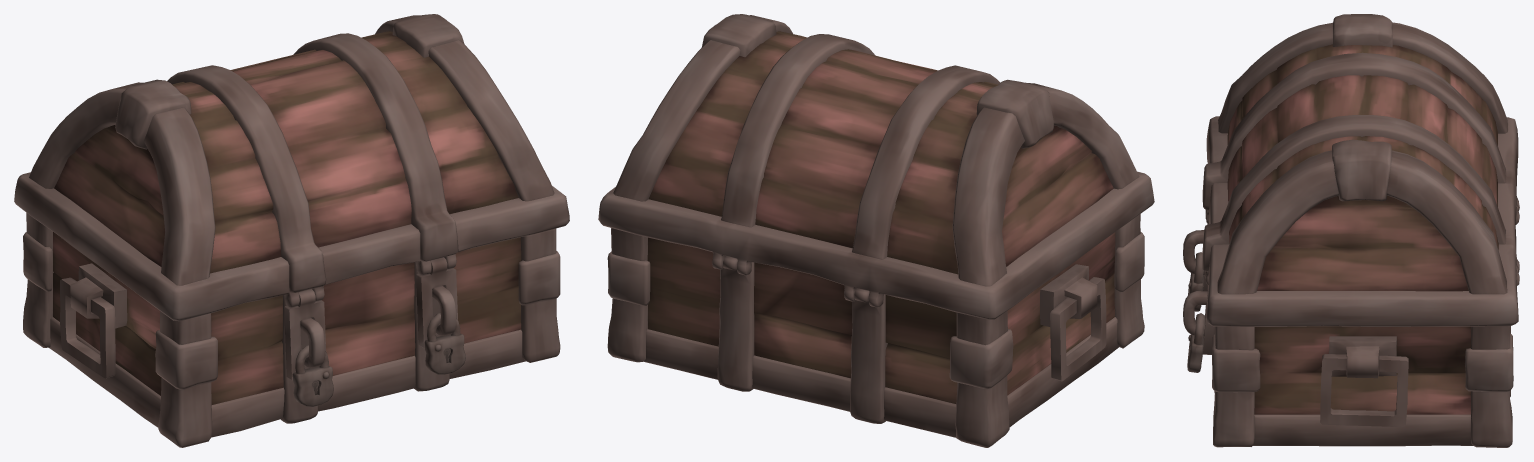
File: chest.glb
3 views of the same model, side by side, from view 1: azimuth 30°, elevation 25°; view 2: azimuth 150°, elevation 25°; view 3: azimuth 270°, elevation 25° (orthographic). The views are drawn at different scales.
Visible parts, largest first — view 1: Cube.063, Cube.062, Cube.067, chest_v04_metal_up.016, chest_v04_metal_up.017, chest_v04_metal_down.019, chest_v04_metal_down.020, Cube.070, chest_v04_metal_down.021, Cube.069, chest_v04_metal_up.018, Cube.066 (+5 smaller); view 2: Cube.063, Cube.067, Cube.062, chest_v04_metal_up.016, chest_v04_metal_down.019, chest_v04_metal_up.017, chest_v04_metal_down.020, Cube.070, chest_v04_metal_down.021, Cube.069, chest_v04_metal_up.018, chest_v04_holder.011 (+1 smaller); view 3: chest_v04_metal_up.016, Cube.063, Cube.067, Cube.070, chest_v04_metal_up.017, Cube.069, chest_v04_metal_down.019, chest_v04_metal_down.020, chest_v04_metal_up.018, chest_v04_metal_down.021, chest_v04_holder.011, chest_v04_holder.010 (+4 smaller).
Part boxes in pixels (x1,y1,x2,y2): Cube.063: (172,31,518,273); Cube.062: (211,237,521,404); Cube.067: (14,172,569,321); chest_v04_metal_up.016: (29,15,554,285); chest_v04_metal_up.017: (167,33,458,292); chest_v04_metal_down.019: (23,213,560,447); chest_v04_metal_down.020: (49,317,525,437); Cube.070: (54,125,164,266); chest_v04_metal_down.021: (23,232,560,389); Cube.069: (53,232,161,395); chest_v04_metal_up.018: (115,14,464,149); Cube.066: (284,257,457,380); Cube.063: (649,31,998,274); Cube.067: (598,171,1154,319); Cube.062: (647,237,957,403); chest_v04_metal_up.016: (613,15,1139,286); chest_v04_metal_down.019: (607,214,1144,447); chest_v04_metal_up.017: (721,34,1000,259); chest_v04_metal_down.020: (644,317,1118,437); Cube.070: (1002,126,1113,266); chest_v04_metal_down.021: (607,232,1144,389); Cube.069: (1007,232,1115,395); chest_v04_metal_up.018: (701,14,1053,148); chest_v04_holder.011: (1050,277,1106,381); chest_v04_metal_up.016: (1217,22,1507,294); Cube.063: (1227,44,1498,249); Cube.067: (1205,116,1519,326); Cube.070: (1257,195,1468,291); chest_v04_metal_up.017: (1202,52,1505,271); Cube.069: (1254,326,1470,414); chest_v04_metal_down.019: (1213,204,1518,447); chest_v04_metal_down.020: (1253,414,1473,446); chest_v04_metal_up.018: (1332,14,1392,201); chest_v04_metal_down.021: (1212,333,1513,392); chest_v04_holder.011: (1320,354,1408,427); chest_v04_holder.010: (1329,336,1396,378).
Size of the model in its own units: 3.81 by 2.49 by 2.73.
1 material, 1 textured.
